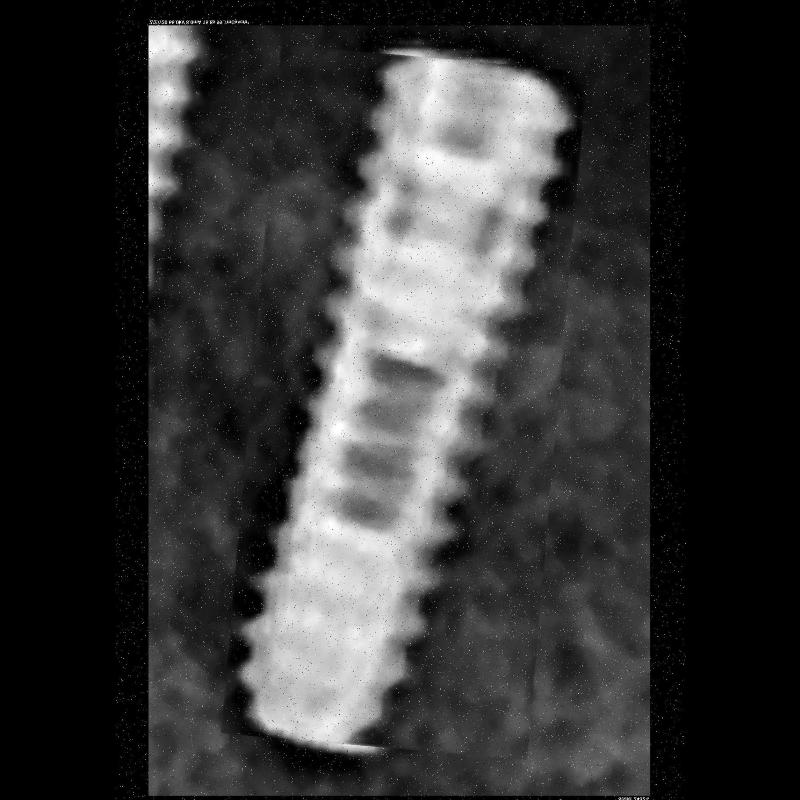osstem: (236, 50, 572, 754)
